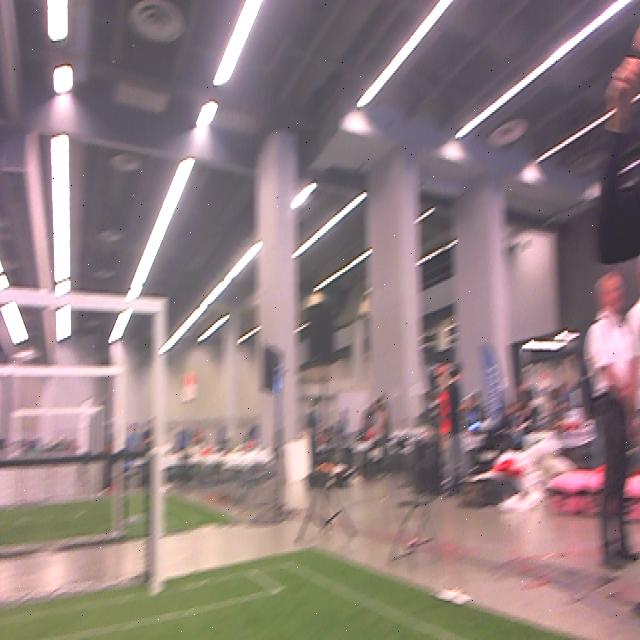goalpost: (151, 295, 165, 594)
